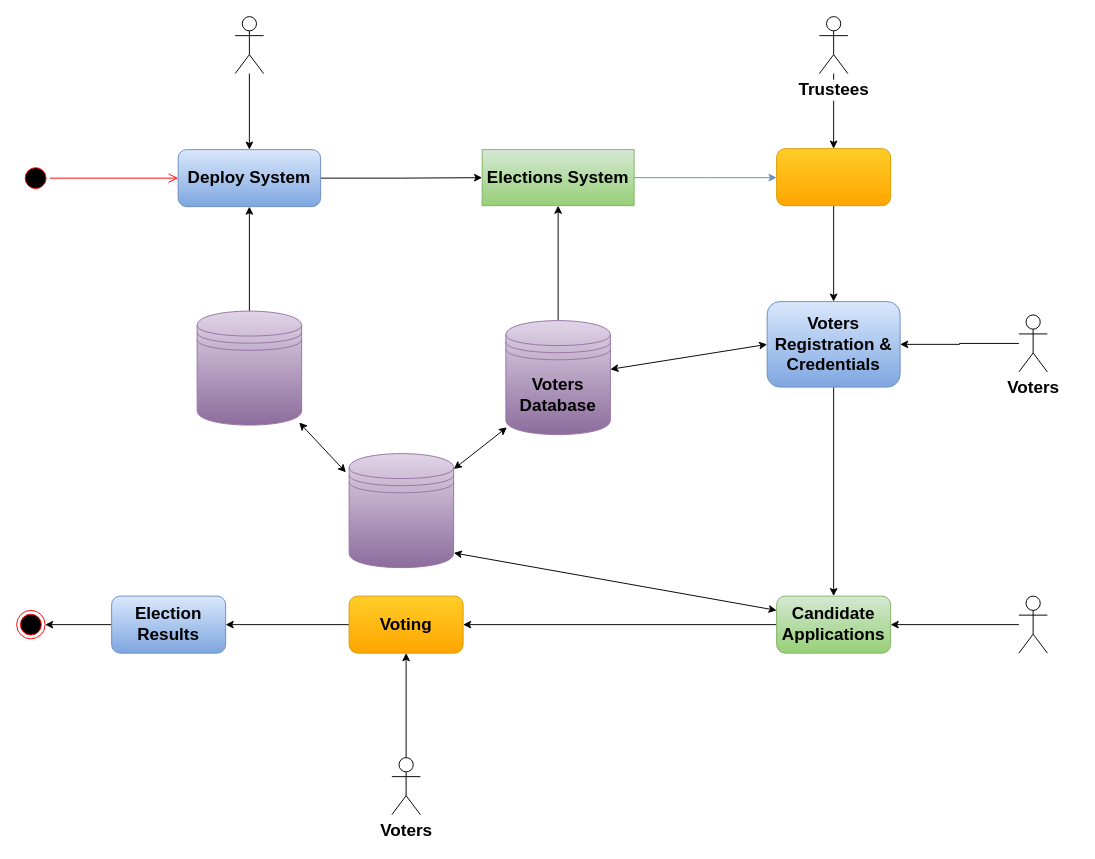
Some shapes in this 1095 by 859 pixel diagram are drawn without their labels. Here are the shapes that lost their labels. From the top down, the centre of each, then its label:
At (x=249, y=45): "Systen Admins".
At (x=833, y=177): "Configure Elections".
At (x=249, y=367): "Citizens Database".
At (x=401, y=510): "Central database".
At (x=1032, y=624): "Candidates".
